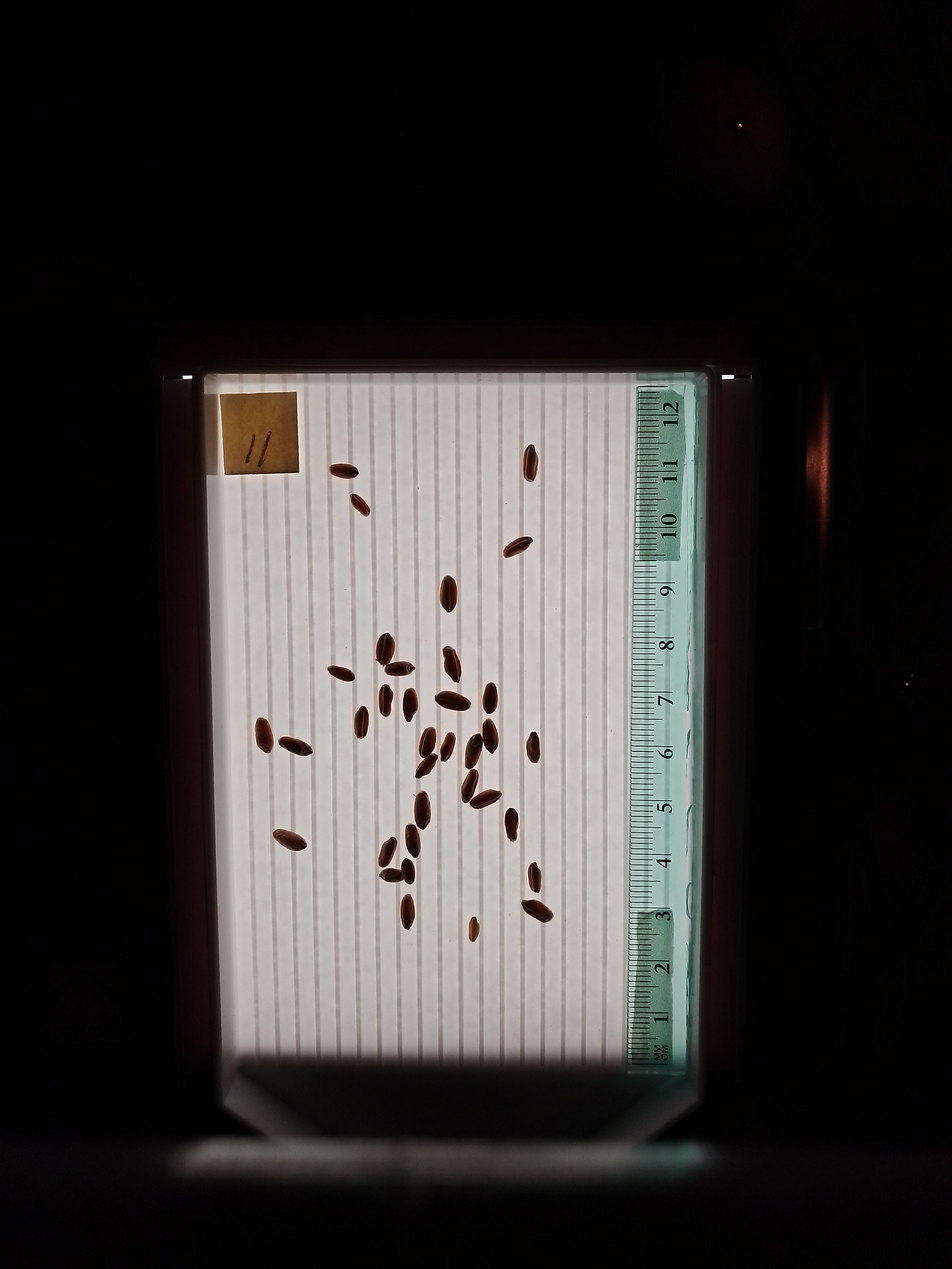seed mask: (273, 828, 307, 852), (436, 691, 470, 712), (522, 900, 553, 922), (279, 736, 312, 756), (414, 792, 431, 830), (503, 536, 532, 558), (255, 718, 273, 753), (443, 647, 461, 682), (440, 577, 458, 612), (376, 634, 395, 665), (482, 720, 499, 753), (465, 735, 482, 768), (471, 791, 501, 809), (523, 446, 538, 482), (402, 688, 418, 721), (400, 895, 415, 930), (416, 754, 437, 778), (419, 728, 436, 757), (405, 825, 420, 857), (379, 838, 396, 866), (462, 770, 477, 801), (354, 707, 369, 738), (505, 808, 519, 841), (483, 683, 498, 713), (350, 494, 370, 516), (526, 733, 541, 762), (379, 685, 393, 716), (328, 665, 355, 681), (330, 464, 358, 479), (386, 661, 414, 676), (528, 863, 542, 892), (440, 734, 455, 761), (402, 859, 415, 883), (381, 868, 403, 882), (468, 917, 479, 941)
